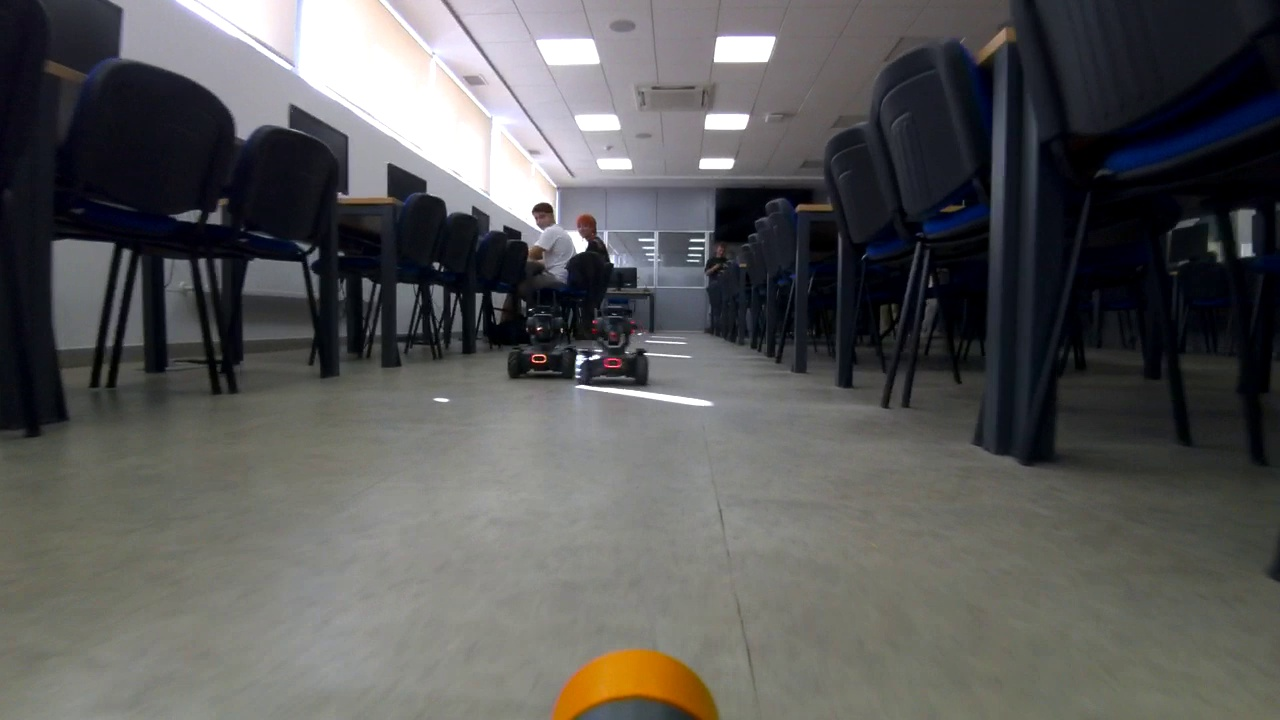robot: (586, 310, 658, 385), (502, 303, 577, 372)
